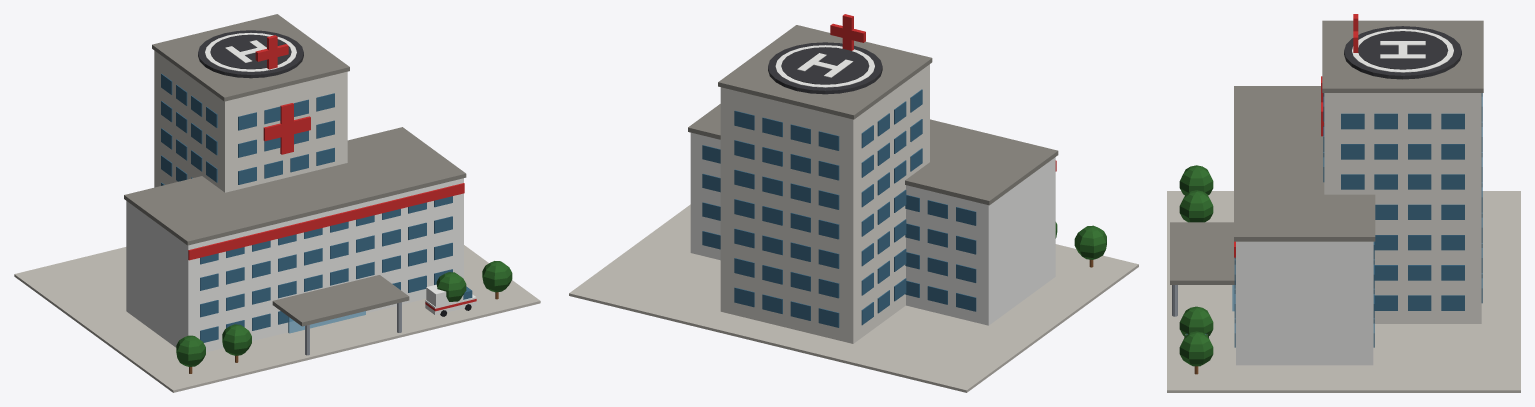
Rendered from hospital.glb.
3 views of the same model, side by side, from view 1: azimuth 30°, elevation 25°; view 2: azimuth 150°, elevation 25°; view 3: azimuth 270°, elevation 25° (orthographic). The views are drawn at different scales.
Visible parts, largest first — view 1: hospital_mat_8d8a83, hospital_mat_f4f4f2, hospital_mat_c9c5bd, hospital_mat_3f6f8c, hospital_mat_e6e3dc, hospital_mat_d92d2d, hospital_mat_2f6b2b, hospital_mat_3b3b3f; view 2: hospital_mat_e6e3dc, hospital_mat_c9c5bd, hospital_mat_f4f4f2, hospital_mat_3f6f8c, hospital_mat_8d8a83, hospital_mat_3b3b3f, hospital_mat_2f6b2b, hospital_mat_d92d2d; view 3: hospital_mat_8d8a83, hospital_mat_c9c5bd, hospital_mat_e6e3dc, hospital_mat_f4f4f2, hospital_mat_3f6f8c, hospital_mat_3b3b3f, hospital_mat_2f6b2b, hospital_mat_d92d2d.
Boxes of the visible parts, <box> form: hospital_mat_8d8a83: <box>124,14,466,326</box>; hospital_mat_f4f4f2: <box>126,33,476,352</box>; hospital_mat_c9c5bd: <box>14,245,540,392</box>; hospital_mat_3f6f8c: <box>161,73,452,342</box>; hospital_mat_e6e3dc: <box>154,50,347,192</box>; hospital_mat_d92d2d: <box>188,35,476,311</box>; hospital_mat_2f6b2b: <box>176,261,512,366</box>; hospital_mat_3b3b3f: <box>198,30,303,78</box>; hospital_mat_e6e3dc: <box>720,64,929,343</box>; hospital_mat_c9c5bd: <box>569,204,1138,392</box>; hospital_mat_f4f4f2: <box>690,45,1055,325</box>; hospital_mat_3f6f8c: <box>702,89,976,327</box>; hospital_mat_8d8a83: <box>688,25,1058,205</box>; hospital_mat_3b3b3f: <box>768,42,882,94</box>; hospital_mat_2f6b2b: <box>1055,222,1106,259</box>; hospital_mat_d92d2d: <box>830,14,1056,171</box>; hospital_mat_8d8a83: <box>1170,20,1483,284</box>; hospital_mat_c9c5bd: <box>1167,191,1520,392</box>; hospital_mat_e6e3dc: <box>1324,93,1481,323</box>; hospital_mat_f4f4f2: <box>1185,29,1453,365</box>; hospital_mat_3f6f8c: <box>1234,93,1482,347</box>; hospital_mat_3b3b3f: <box>1344,26,1461,79</box>; hospital_mat_2f6b2b: <box>1179,165,1213,366</box>; hospital_mat_d92d2d: <box>1234,14,1358,257</box>.
Bounding box in the file's own units: 48 × 31.1 × 36.
